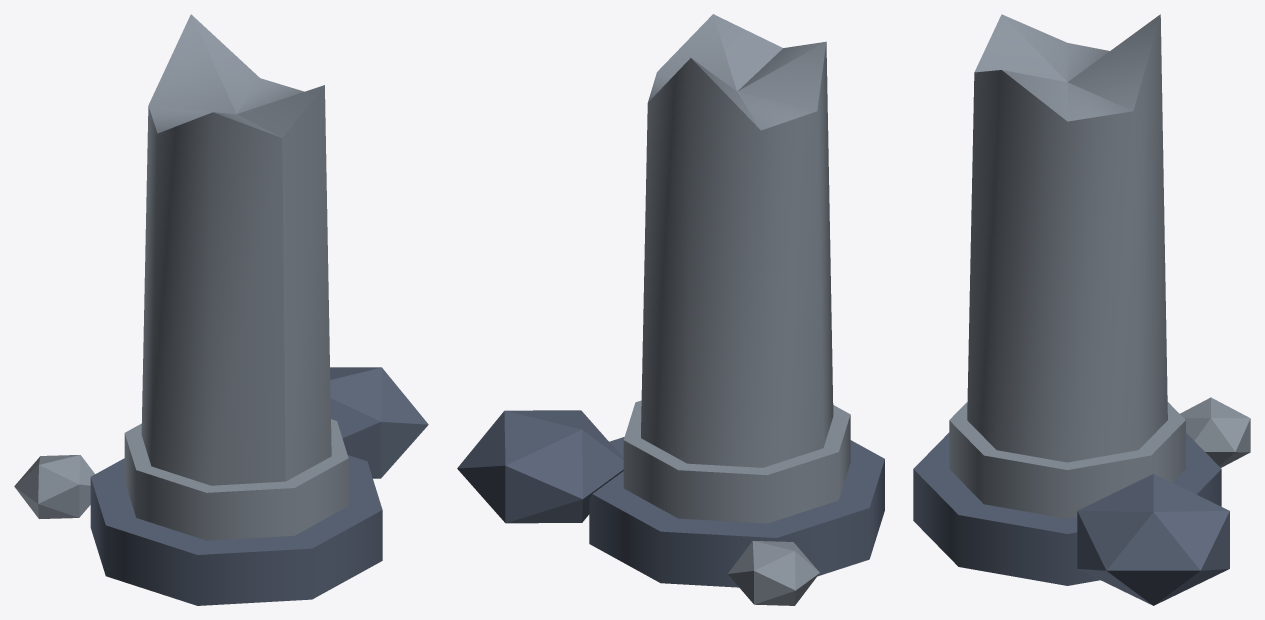
Rendered from broken-column.glb.
3 renders of one model, left to right at view 1: azimuth 30°, elevation 25°; view 2: azimuth 150°, elevation 25°; view 3: azimuth 270°, elevation 25°, orthographic. The views are drawn at different scales.
Parts seen in each view (by area): view 1: fractured-shaft, plinth, base-ring, rubble, chip; view 2: fractured-shaft, plinth, base-ring, rubble, chip; view 3: fractured-shaft, rubble, plinth, base-ring, chip.
Part boxes in pixels (x1,y1,x2,y2): fractured-shaft: (141, 14, 331, 485); plinth: (90, 455, 382, 605); base-ring: (124, 419, 348, 540); rubble: (330, 367, 428, 478); chip: (14, 455, 94, 518); fractured-shaft: (641, 14, 833, 467); plinth: (589, 437, 884, 587); base-ring: (623, 400, 850, 523); rubble: (457, 410, 623, 523); chip: (728, 541, 819, 605); fractured-shaft: (967, 14, 1167, 462); rubble: (1077, 474, 1229, 605); plinth: (913, 432, 1221, 585); base-ring: (949, 402, 1185, 518); chip: (1180, 397, 1250, 467).
Bounding box in the file's own units: 1.15 × 1.56 × 0.9406.
